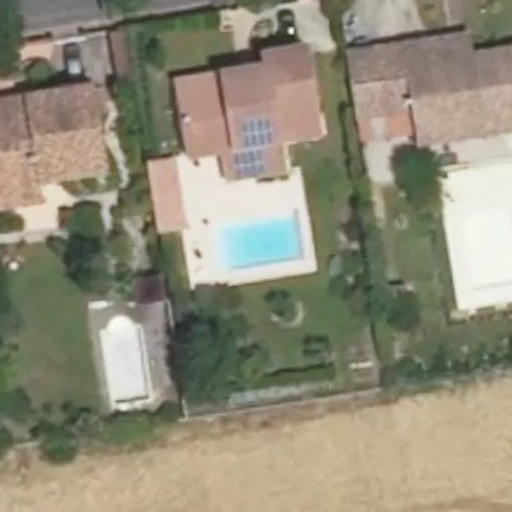pool: (210, 225, 300, 258)
